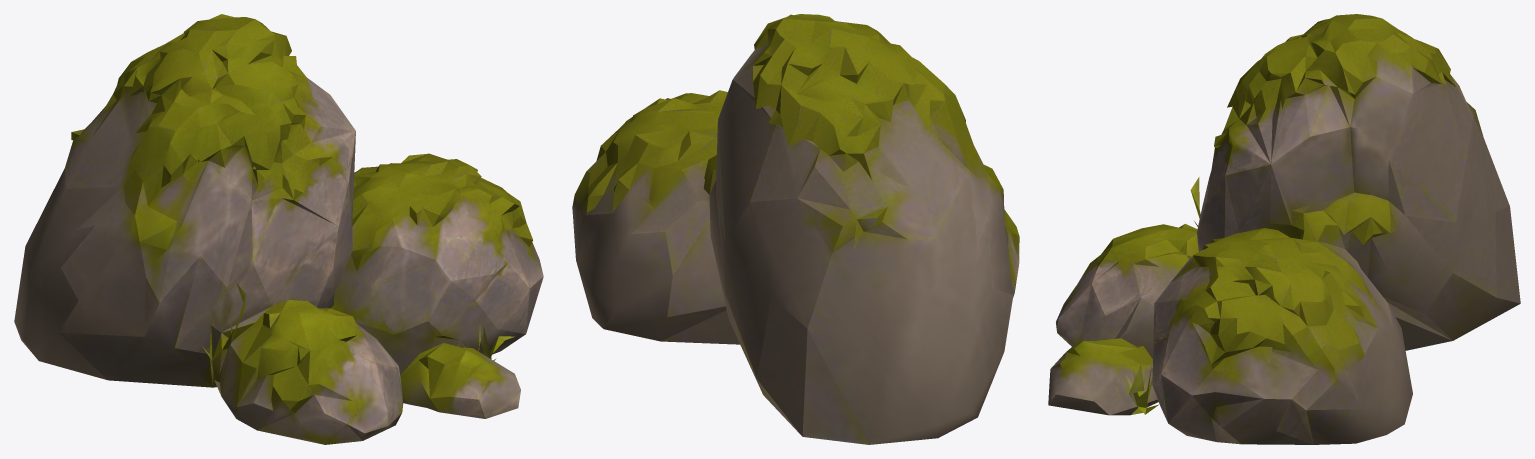
Rendered from PRP-002.glb.
3 views of the same model, side by side, from view 1: azimuth 30°, elevation 25°; view 2: azimuth 150°, elevation 25°; view 3: azimuth 270°, elevation 25° (orthographic). The views are drawn at different scales.
Visible parts, largest first — view 1: PRP-002; view 2: PRP-002; view 3: PRP-002.
Part boxes in pixels (left/top/right/bottom): PRP-002: left=14, top=14, right=543, bottom=444; PRP-002: left=572, top=14, right=1019, bottom=444; PRP-002: left=1048, top=14, right=1520, bottom=444.
Size of the model in its own units: 1.3 by 0.9 by 1.22.
1 material, 1 textured.
